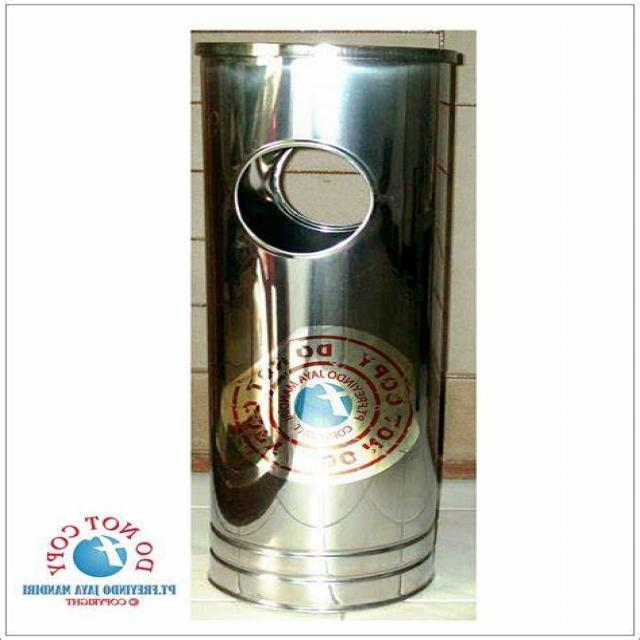garbage container: (194, 28, 475, 612)
